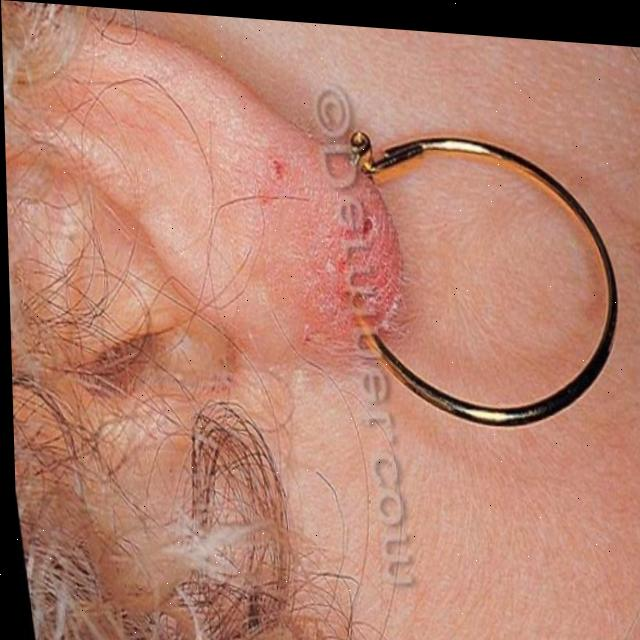Eczema: (298, 148, 424, 349)
